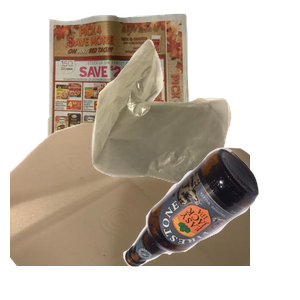glass: (120, 145, 300, 300)
paper: (44, 11, 229, 181)
plastic: (10, 120, 250, 300)
trash: (89, 37, 300, 213)
